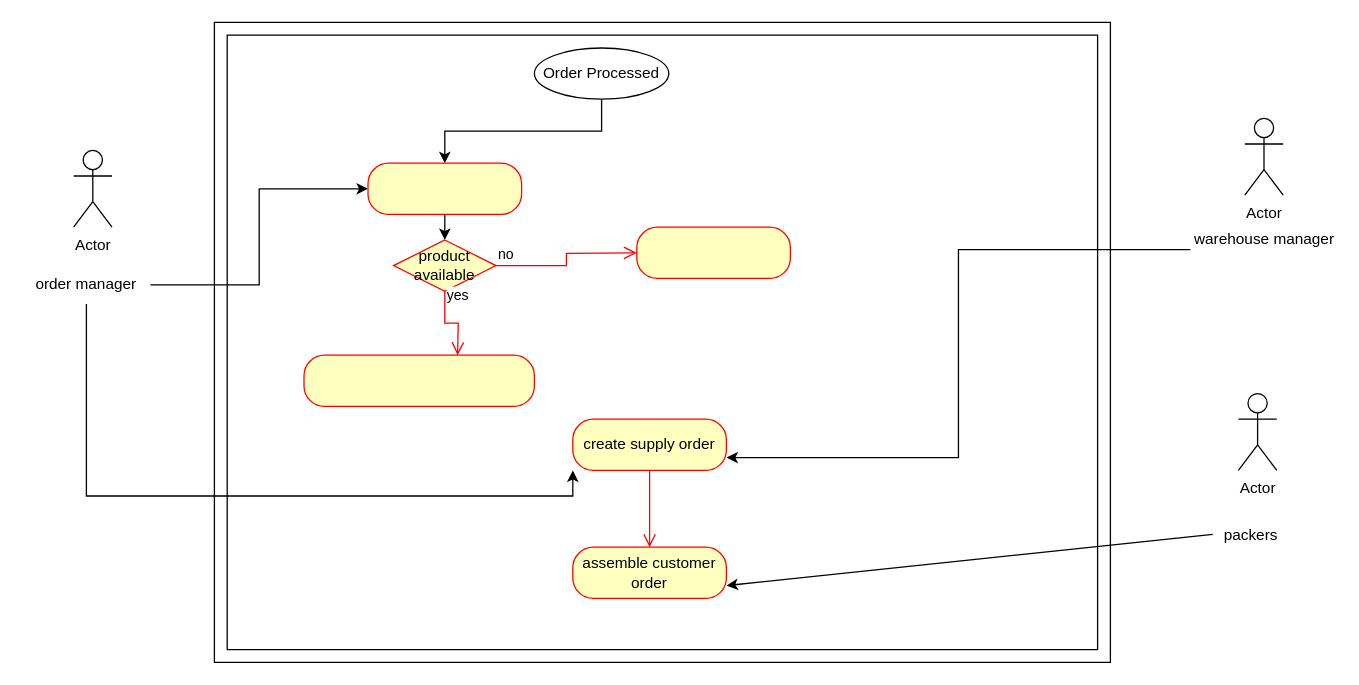
This 1359x685 diagram has some shape labels left out. The box of each missing label's shape, as (x1, y1, x2, y2) in pixels:
check stock levels: (367, 162, 522, 214)
placed in customer list orrder: (303, 354, 534, 406)
removed from order: (636, 226, 790, 278)
